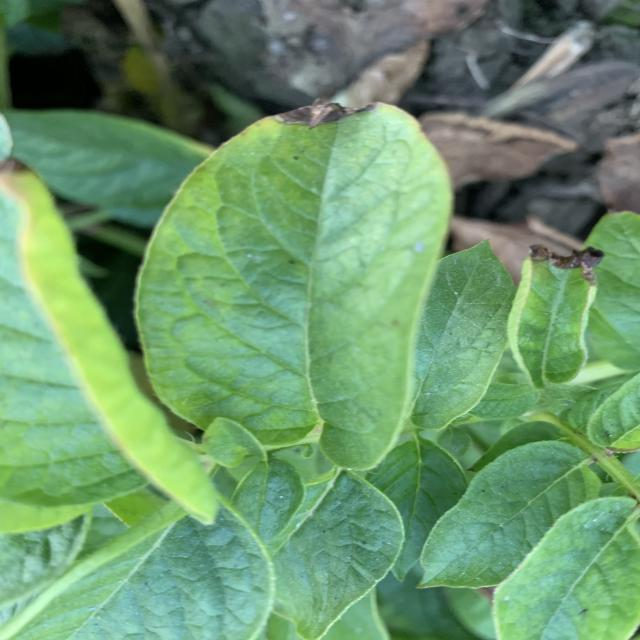lateblight: (530, 244, 605, 285), (273, 99, 375, 129)
